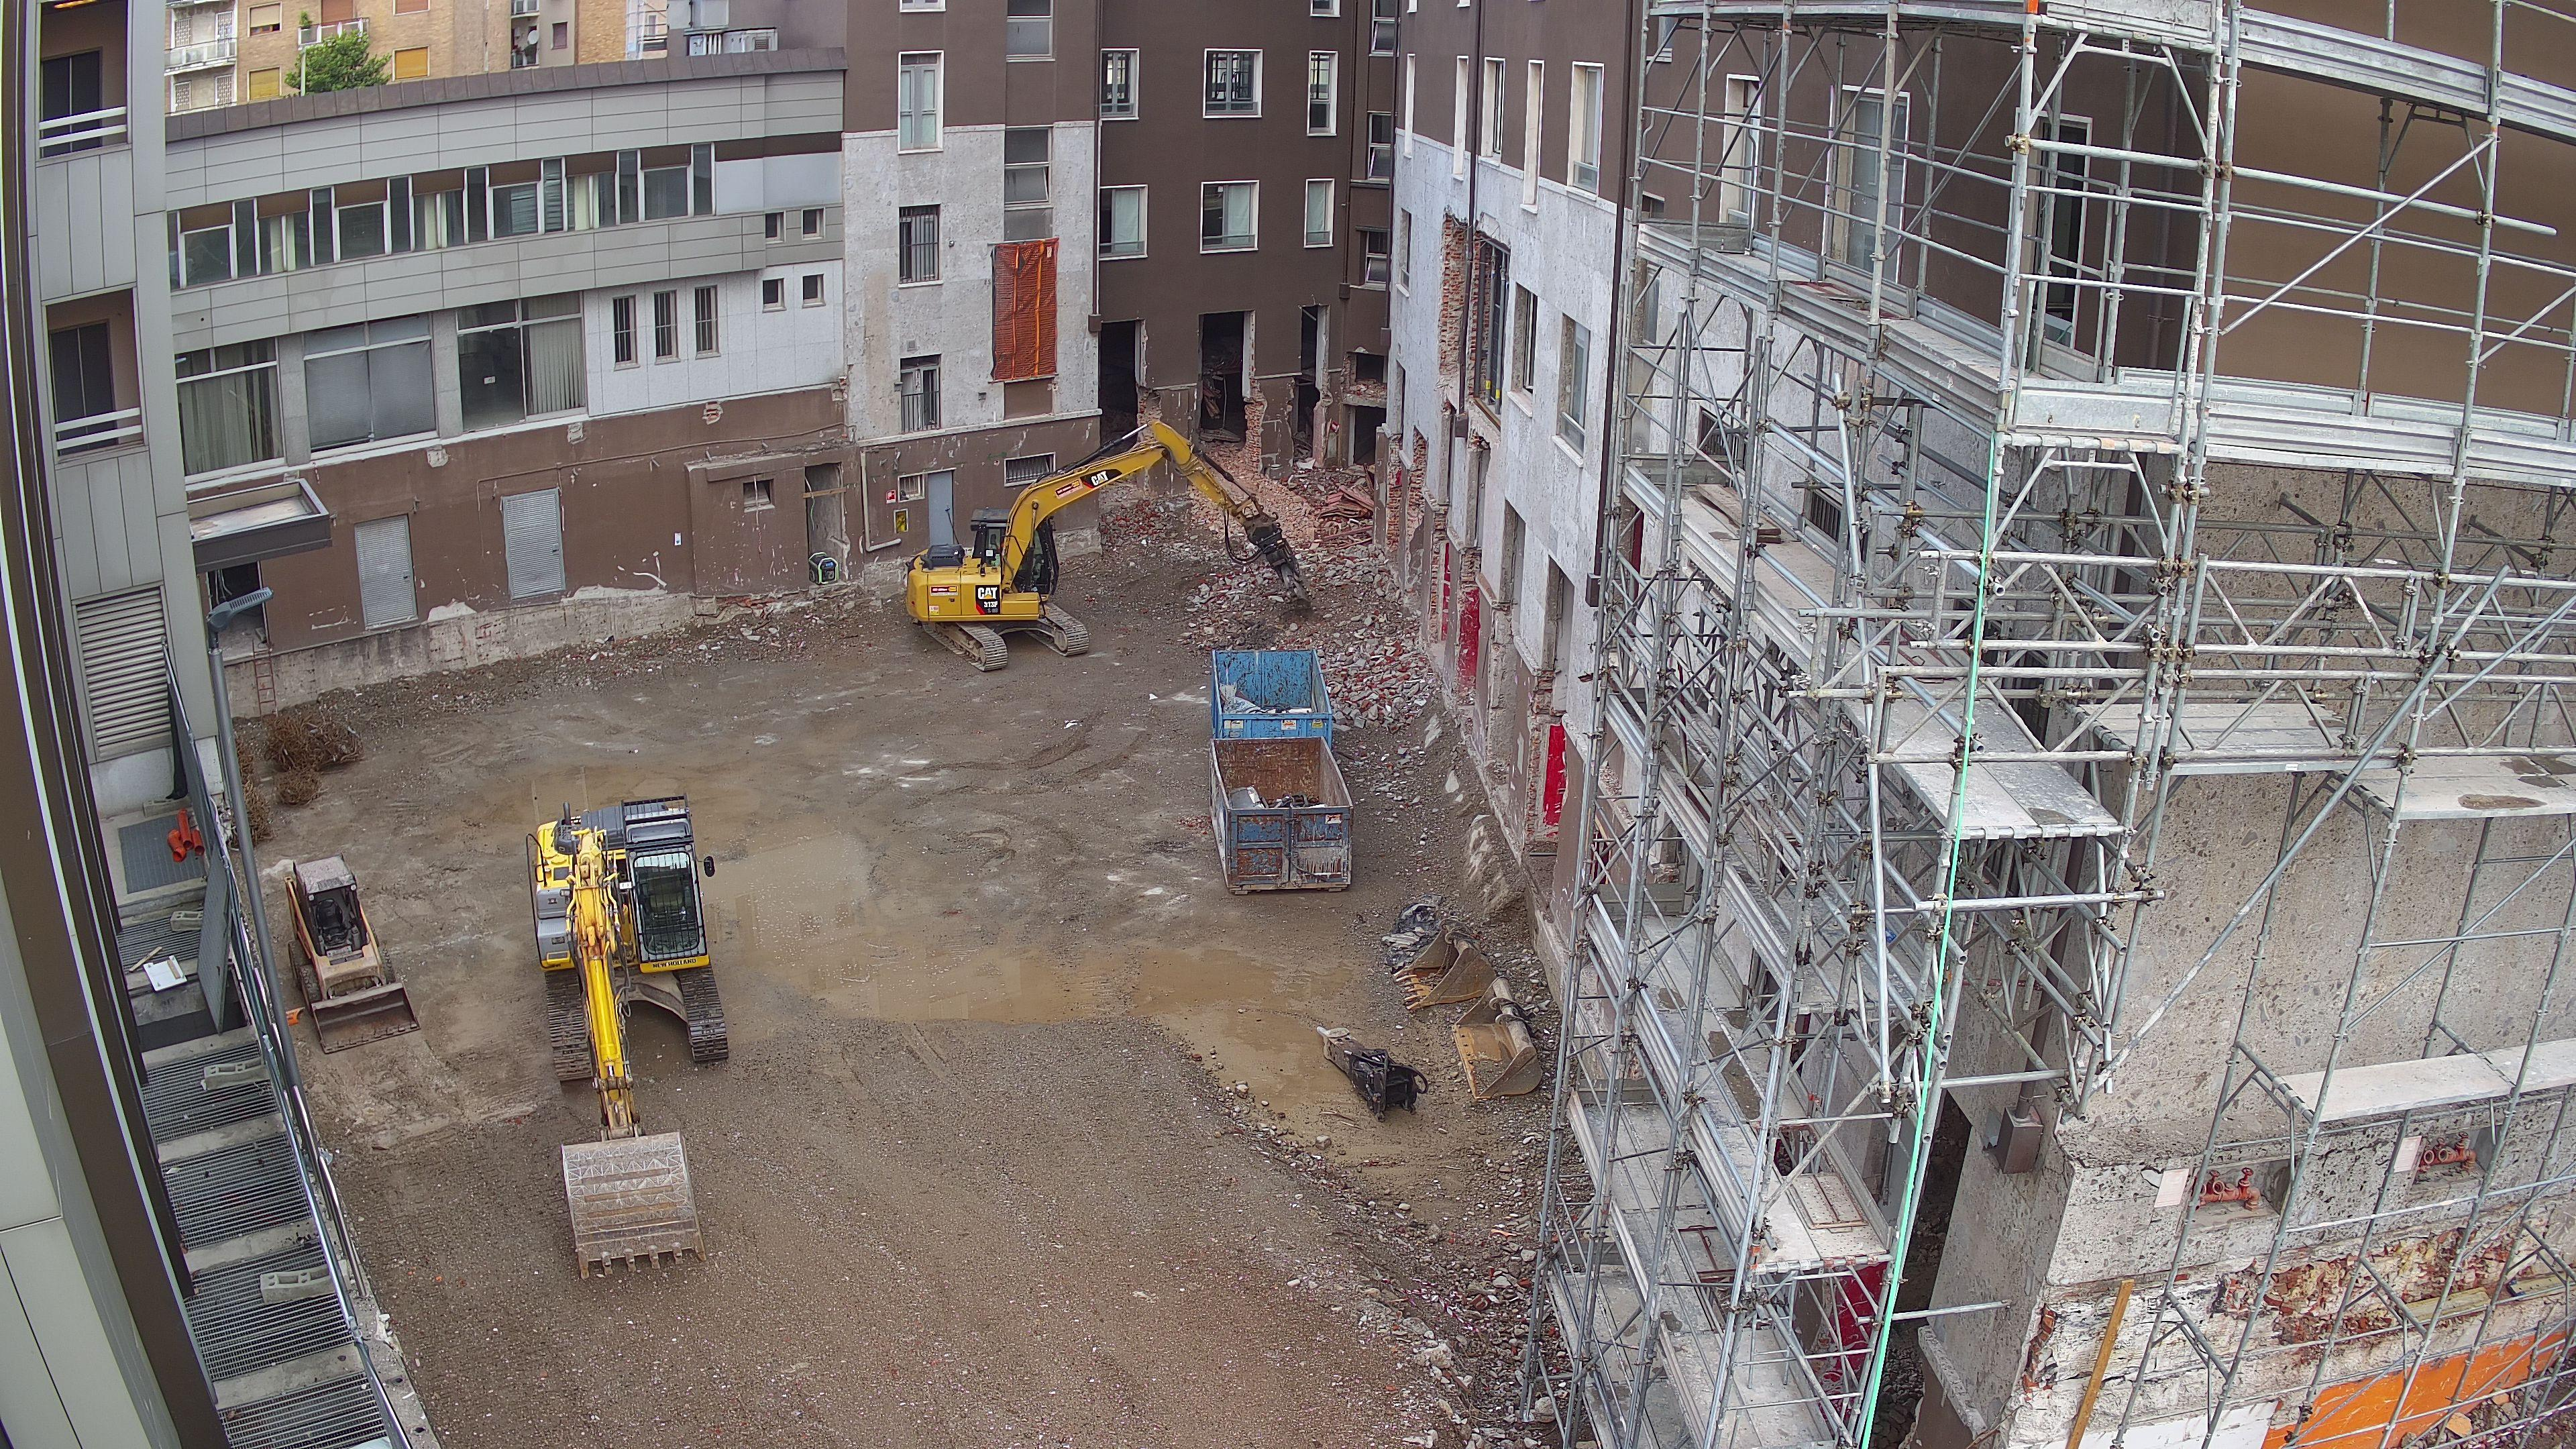excavator: (904, 419, 1315, 671), (525, 791, 729, 1276), (283, 853, 426, 1054)
